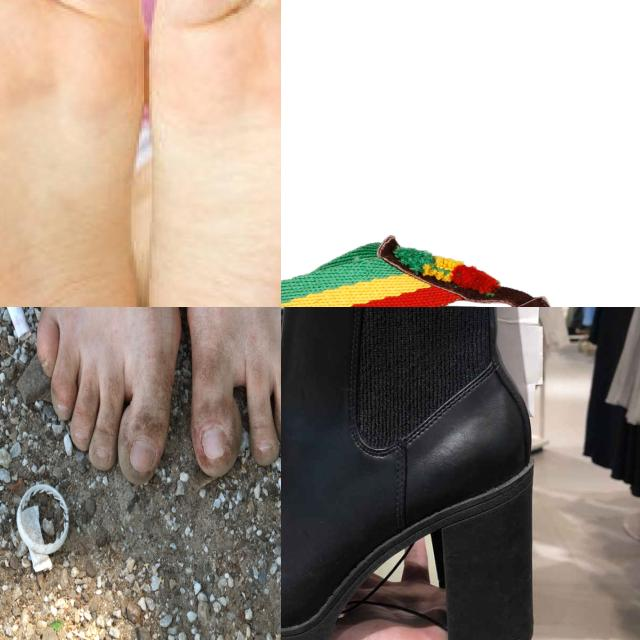Barefoots: (144, 0, 281, 307), (0, 0, 137, 307), (36, 307, 182, 484), (187, 307, 281, 478)
Sandals: (281, 307, 570, 640), (281, 233, 640, 307)
